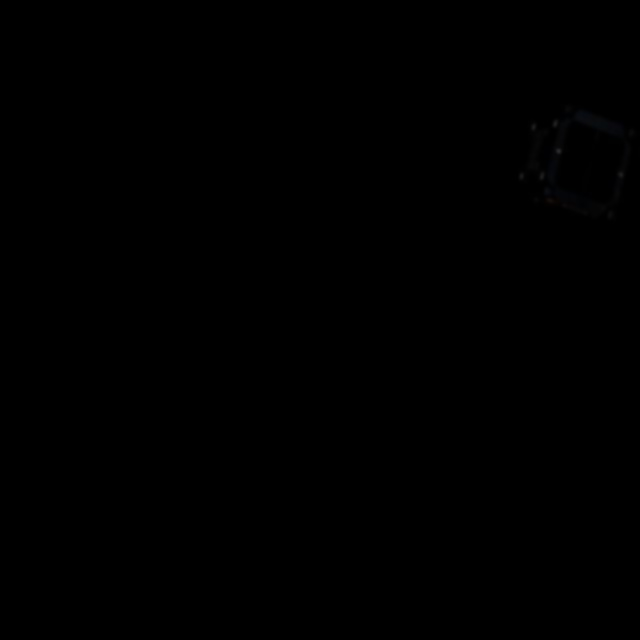satellite: (509, 85, 640, 235)
